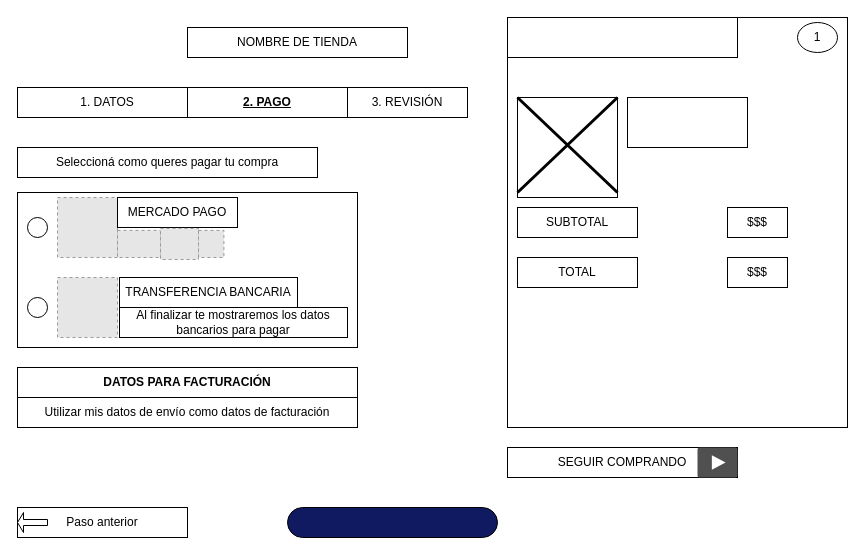
This 865x555 diagram has some shape labels left out. Grey dashed boxes stand in for pictures. The shapes that lost their labels are listed below. From the top down, each one's centre as x and y in pixels, then its label:
At [622,37]: "MI COMPRA".
At [687,122]: "DESCRIPCIÓN DEL PRODUCTO".
At [392,522]: "Siguiente".
